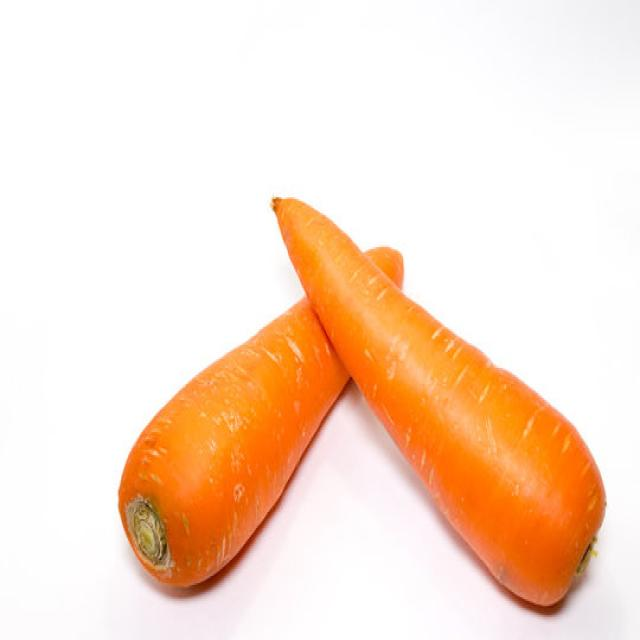Carrot: (269, 192, 607, 608), (116, 238, 405, 588)
